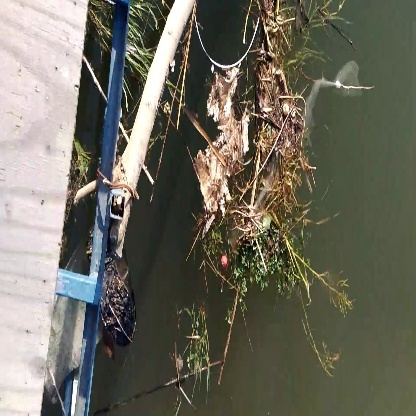grass: (217, 230, 309, 301)
